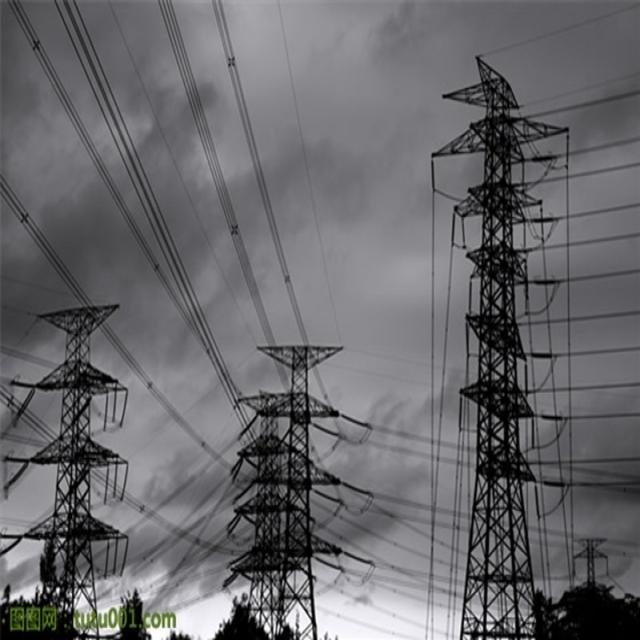non-critical vegetation: (427, 49, 575, 636), (22, 304, 126, 636), (244, 332, 337, 636)
